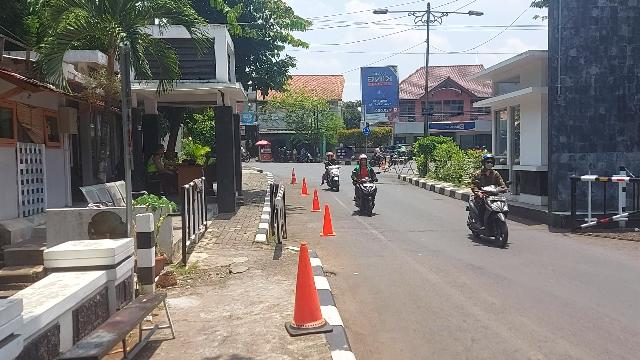helm: (482, 154, 497, 170), (359, 155, 369, 166), (327, 153, 336, 161)
motor: (467, 181, 516, 250), (352, 172, 382, 218), (325, 163, 343, 194)
